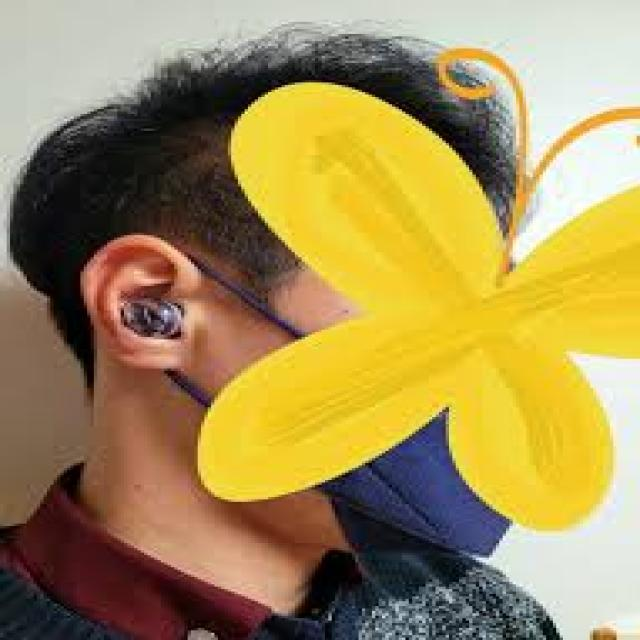earphone: (102, 263, 188, 360)
